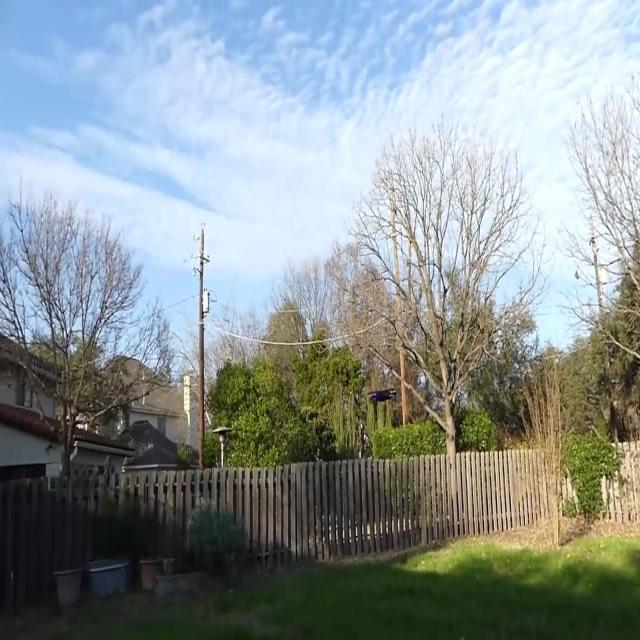UAV: (368, 388, 397, 406)
